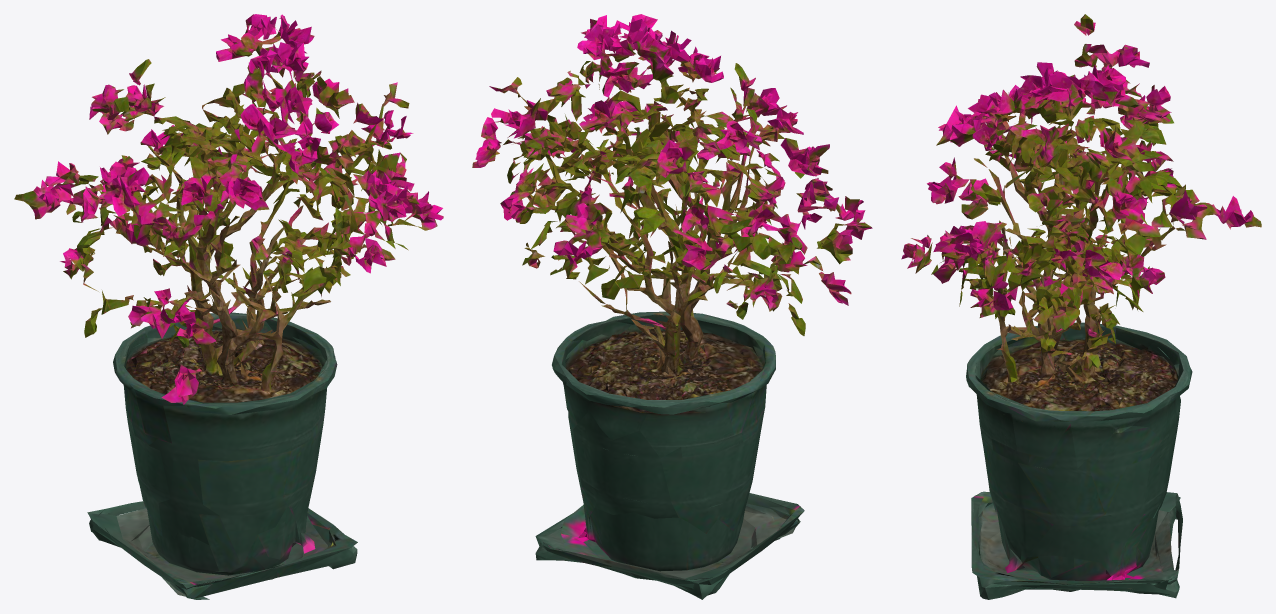
Rendered from w4bougain.glb.
3 views of the same model, side by side, from view 1: azimuth 30°, elevation 25°; view 2: azimuth 150°, elevation 25°; view 3: azimuth 270°, elevation 25° (orthographic).
Visible parts, largest first — view 1: output_unwrapped; view 2: output_unwrapped; view 3: output_unwrapped.
Boxes of the visible parts, bbox=[...] form: output_unwrapped: bbox=[14, 14, 443, 599]; output_unwrapped: bbox=[472, 14, 872, 599]; output_unwrapped: bbox=[901, 14, 1261, 599].
Size of the model in its own units: 0.7401 by 1 by 0.6324.
1 material, 1 textured.
